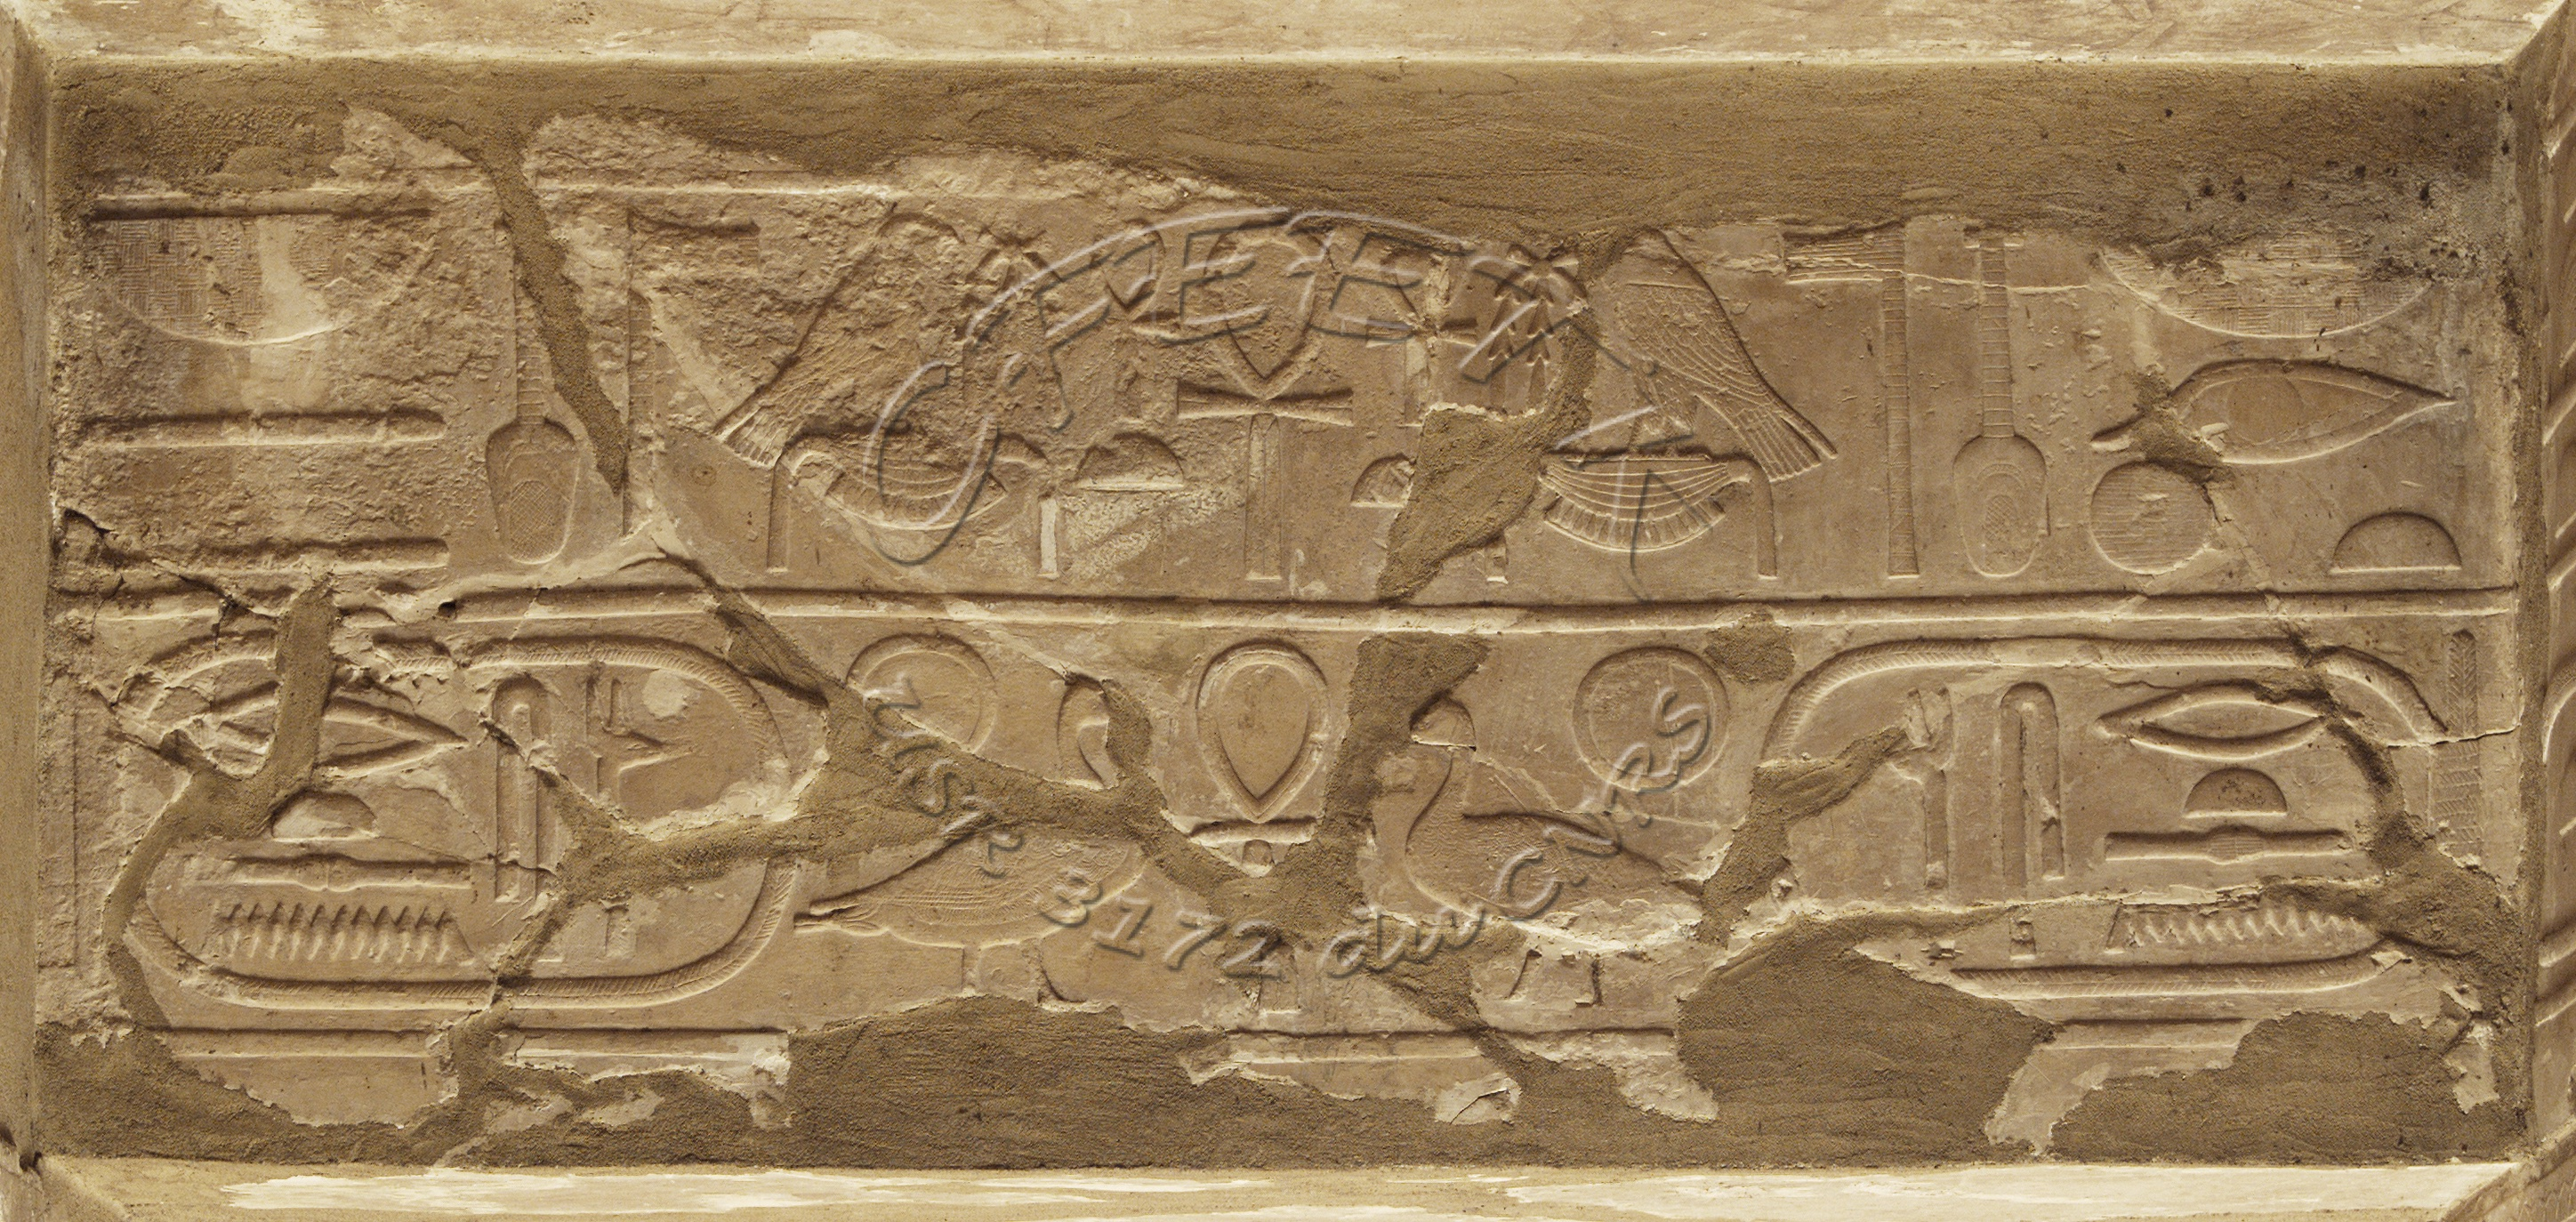D21: (153, 673, 470, 792), (2080, 664, 2371, 775)
D4: (2057, 350, 2472, 468)
F35: (1925, 195, 2081, 601), (460, 199, 585, 573)
N35: (2070, 872, 2466, 962), (169, 887, 508, 992)
V30: (56, 189, 448, 360)
